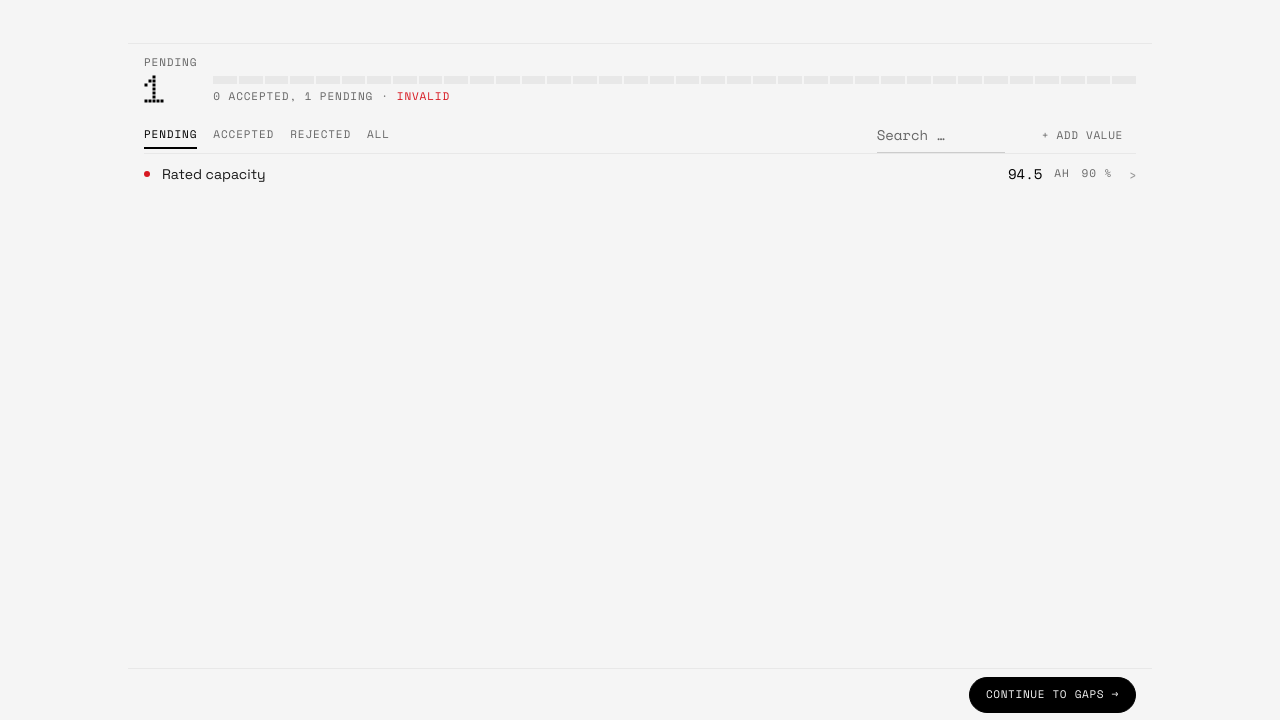
ReviewView › marks a proposal the assist flagged, without changing its state
Click the button with test id "group": coordinates (214, 174) [144,153,1136,193]
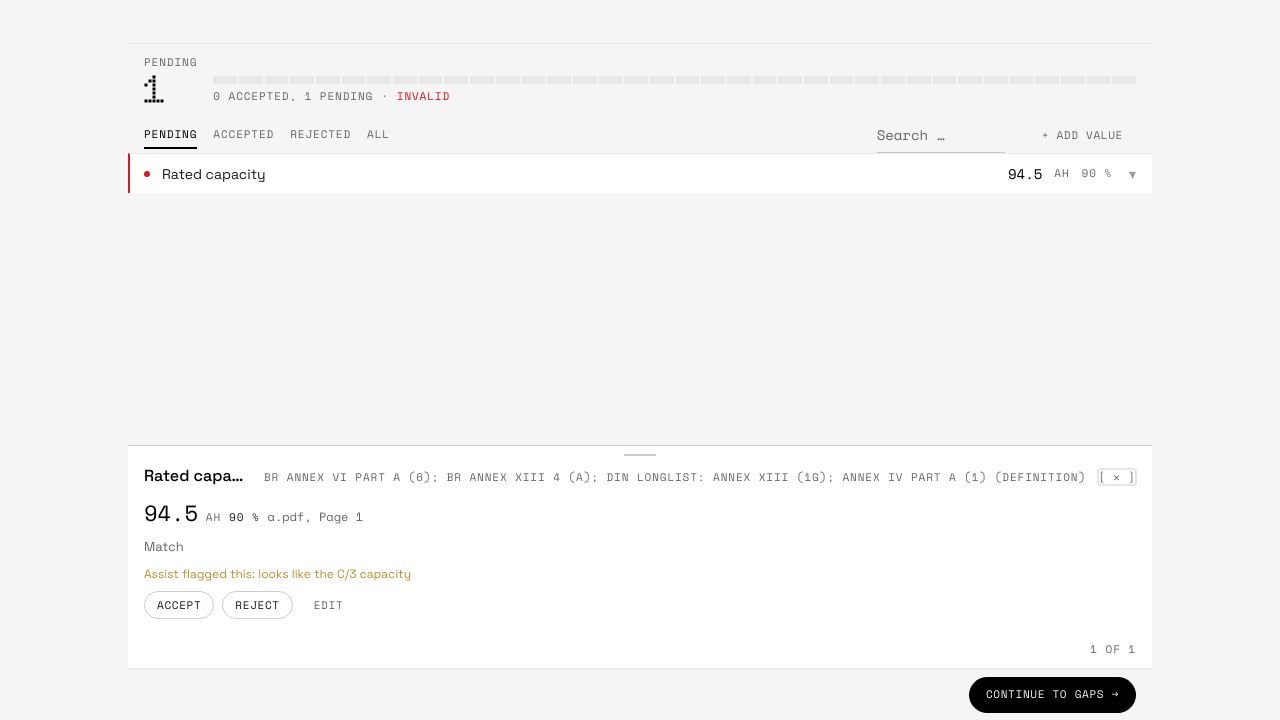
Now the text with test id "assist-critique-chip" shows "looks like the C/3 capacity", box [258,566,411,582]
